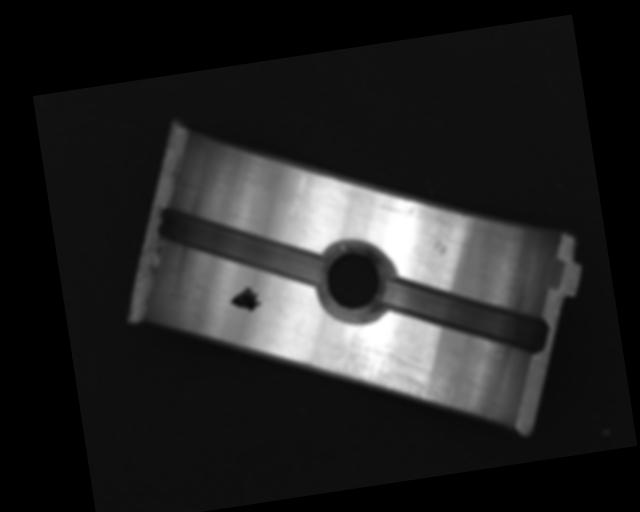blot: (227, 284, 264, 315)
bruise: (430, 237, 448, 257)
gap: (156, 187, 324, 306), (382, 261, 550, 373)
hole: (315, 236, 397, 329)
nick: (276, 174, 313, 227)
scratch: (312, 321, 453, 425)
